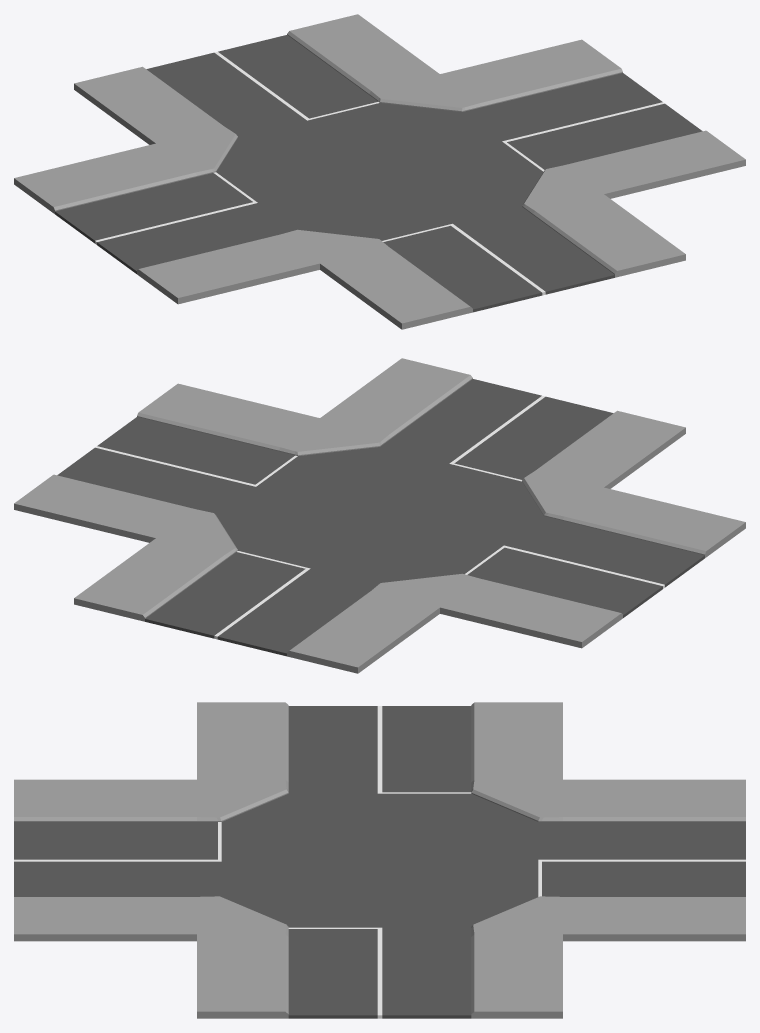
Rendered from roadIntersection.fbx.
3 renders of one model, top to bottom at view 1: azimuth 30°, elevation 25°; view 2: azimuth 150°, elevation 25°; view 3: azimuth 270°, elevation 25°, orthographic. The views are drawn at different scales.
Parts seen in each view (by area): view 1: RoadIntersection; view 2: RoadIntersection; view 3: RoadIntersection.
Part boxes in pixels (x1,y1,x2,y2): RoadIntersection: [14, 14, 745, 329]; RoadIntersection: [14, 358, 745, 673]; RoadIntersection: [14, 702, 745, 1018].
Bounding box in the file's own units: 4000 × 42.29 × 4000.
